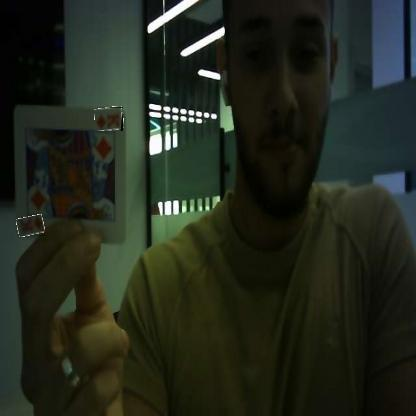KD: (95, 107, 123, 131), (17, 216, 45, 236)
